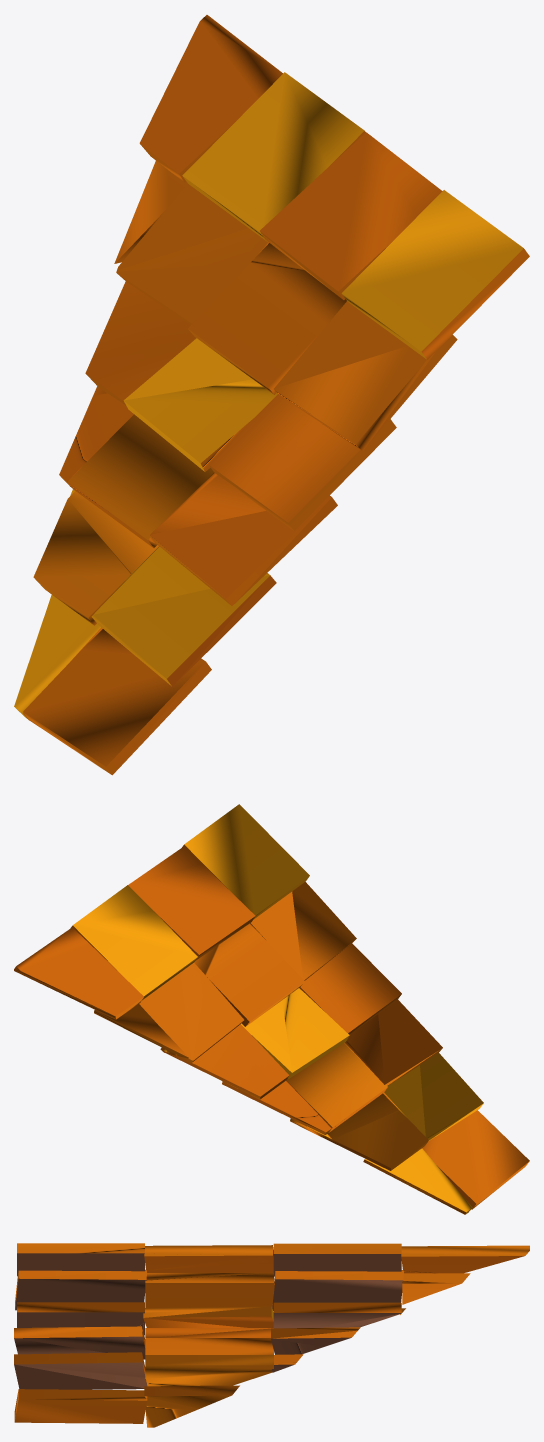
Rendered from roof wood 4.fbx.
3 views of the same model, one above another, from view 1: azimuth 30°, elevation 25°; view 2: azimuth 150°, elevation 25°; view 3: azimuth 270°, elevation 25° (orthographic). The views are drawn at different scales.
Visible parts, largest first — view 1: roof_wood_4; view 2: roof_wood_4; view 3: roof_wood_4.
Part boxes in pixels (x1,y1,x2,y2): roof_wood_4: (14,15,529,775); roof_wood_4: (14,804,529,1214); roof_wood_4: (14,1243,529,1427).
Size of the model in its own units: 184 by 176 by 237.
Materials: 1 (1 with a texture image).
